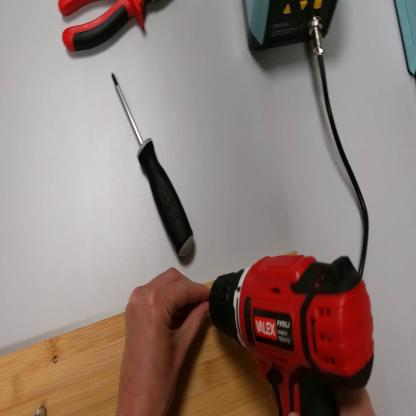electric screwdriver: (210, 252, 375, 415)
hand: (118, 266, 212, 413)
pliers: (57, 2, 174, 53)
screwdriver-: (113, 72, 197, 260)
welder base: (394, 3, 415, 80)
welder station: (242, 1, 339, 60)
working area: (1, 281, 279, 416)
